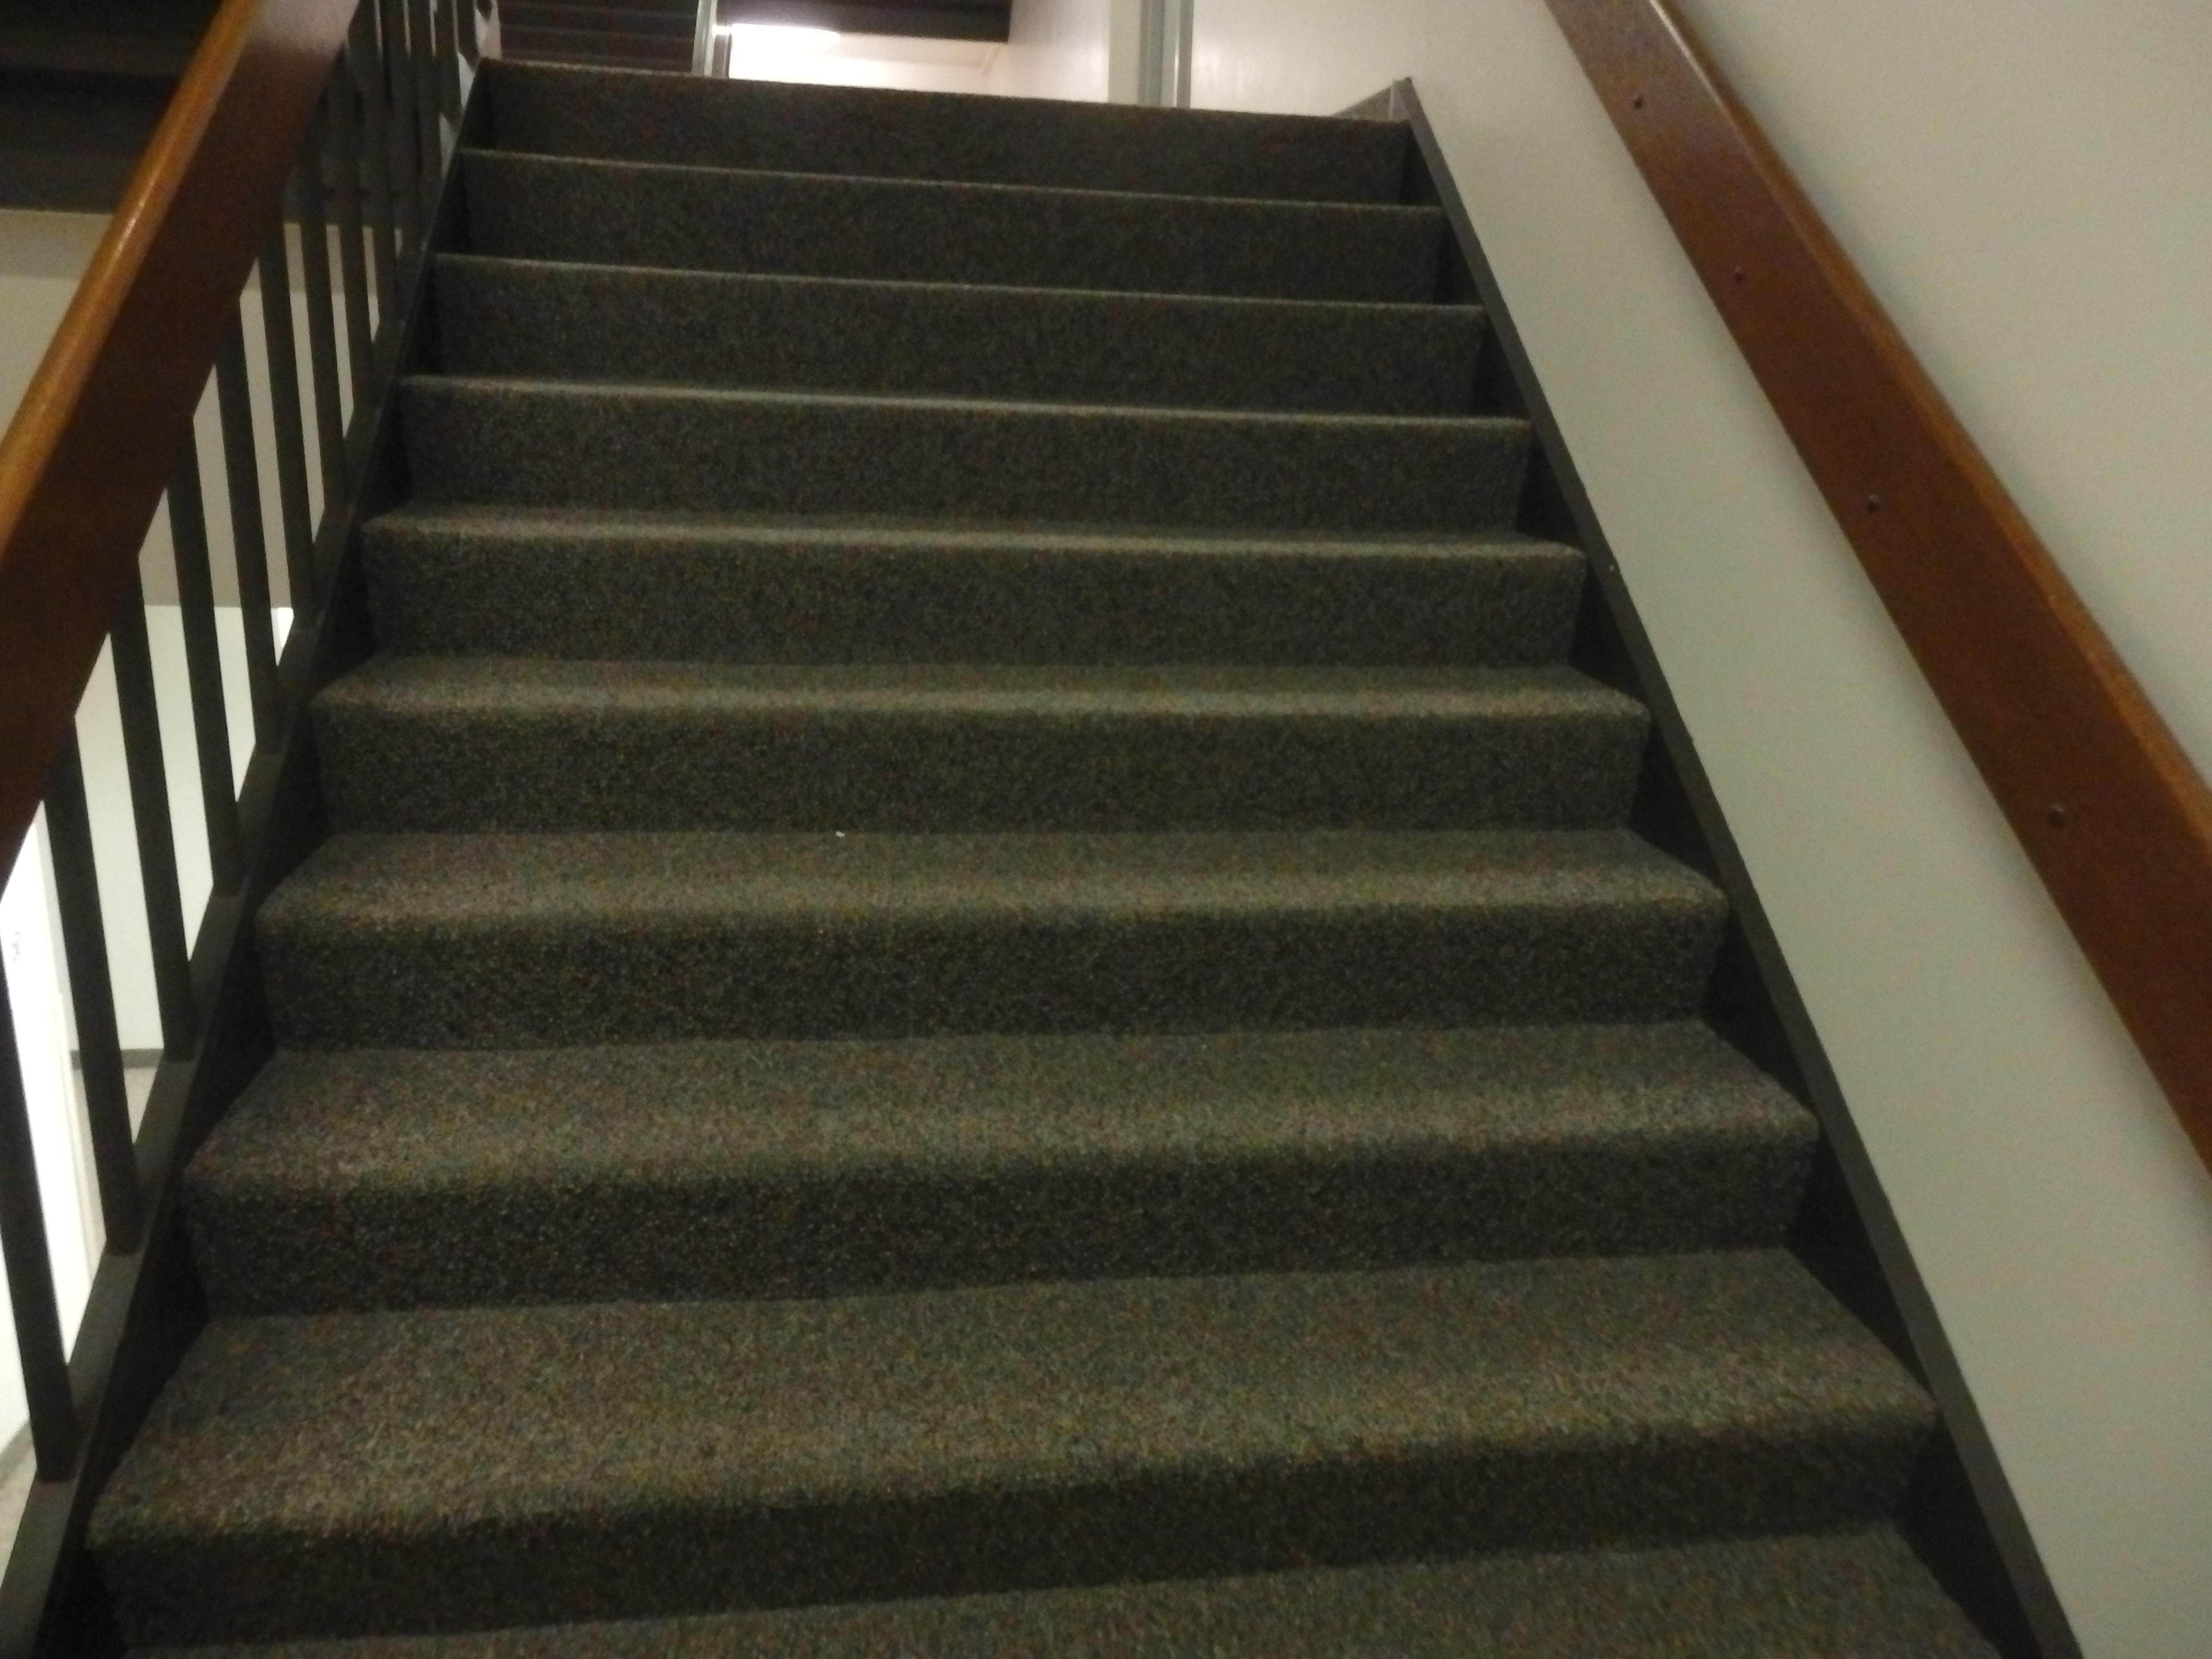stairs_up: (258, 70, 1803, 1549)
